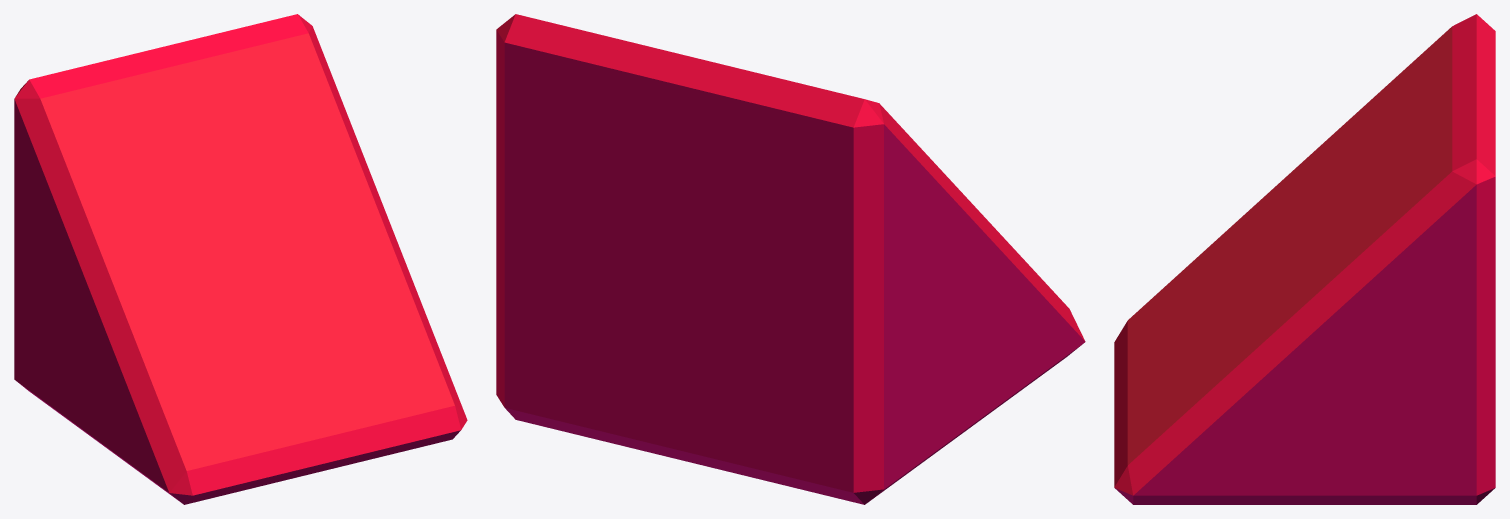
Rendered from m_kub_diagonalPink.FBX.
3 views of the same model, side by side, from view 1: azimuth 30°, elevation 25°; view 2: azimuth 150°, elevation 25°; view 3: azimuth 270°, elevation 25° (orthographic). The views are drawn at different scales.
Visible parts, largest first — view 1: m_kub_diagonalPink; view 2: m_kub_diagonalPink; view 3: m_kub_diagonalPink.
Boxes of the visible parts, x1,y1,x2,y2 form: m_kub_diagonalPink: [14, 14, 467, 504]; m_kub_diagonalPink: [496, 14, 1085, 504]; m_kub_diagonalPink: [1114, 14, 1495, 504].
Size of the model in its own units: 2 by 2 by 2.
